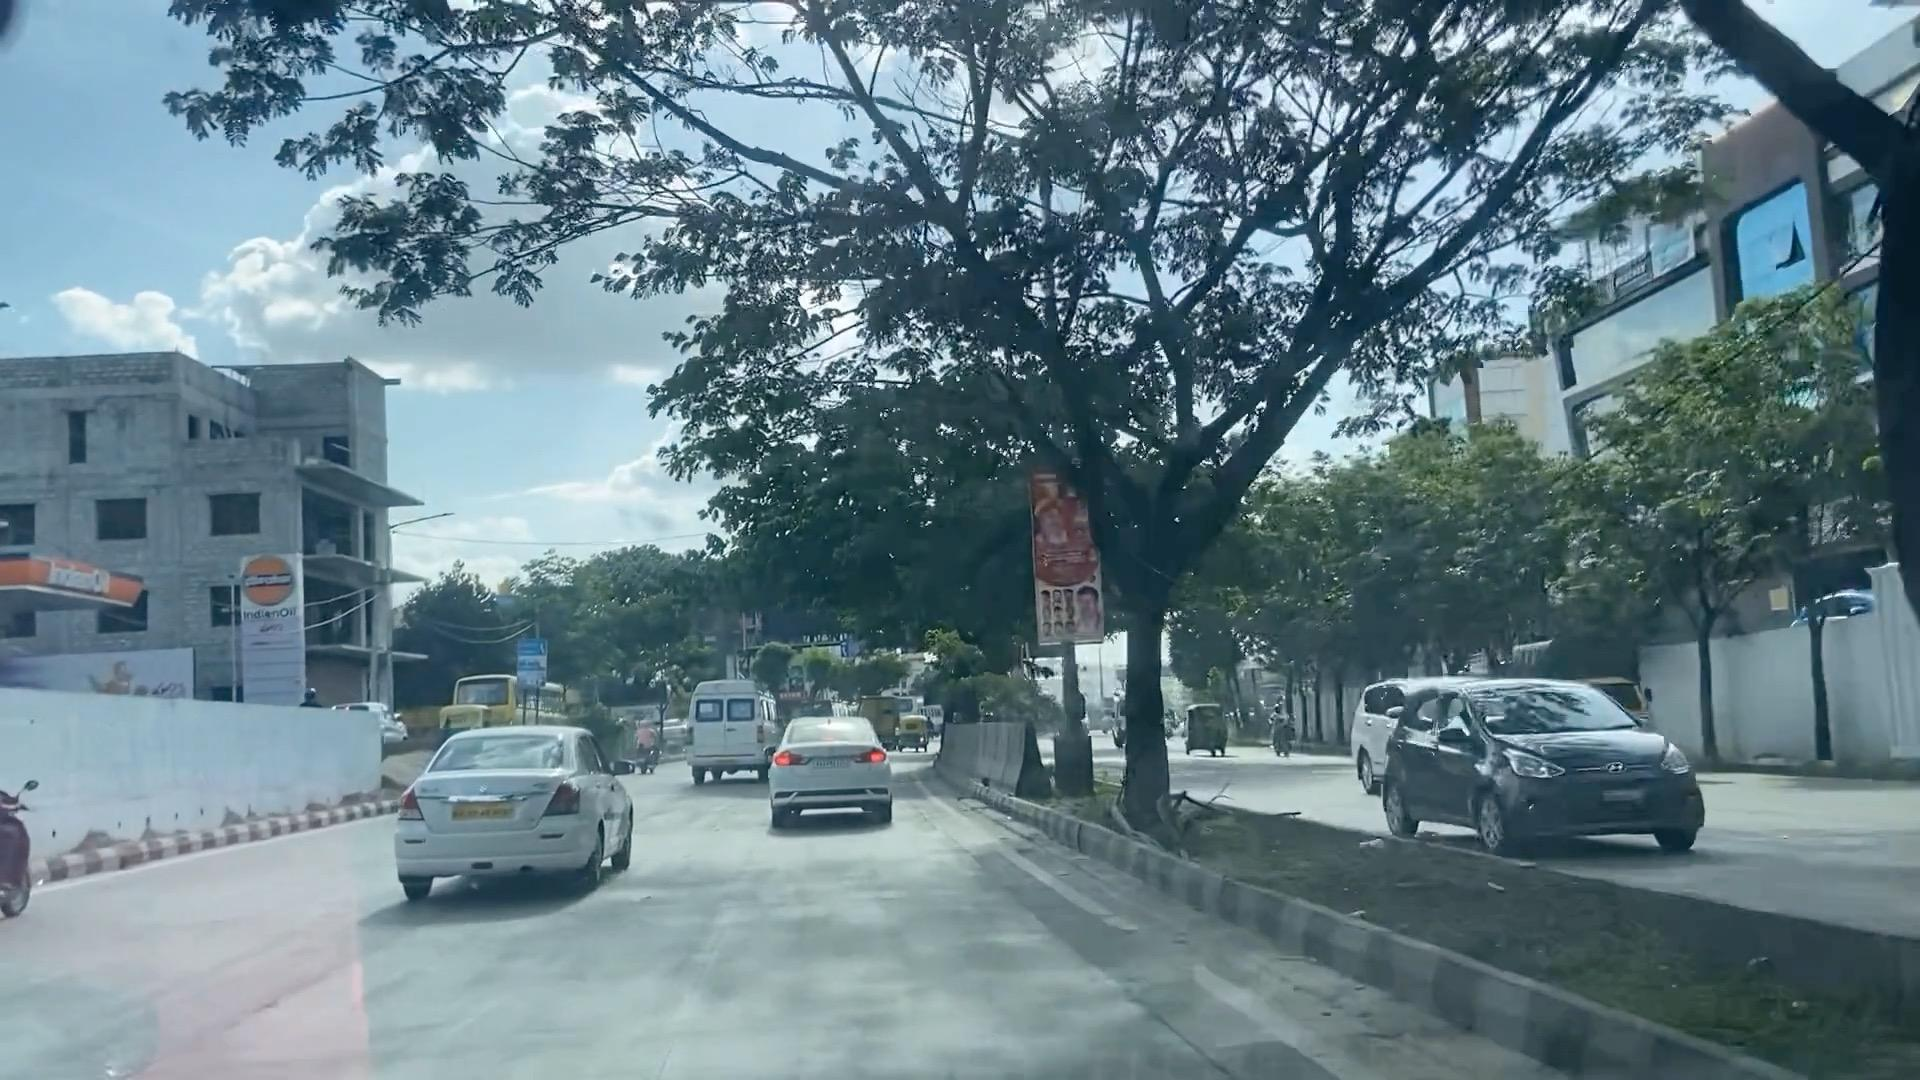HMV: (698, 684, 767, 778)
LMV: (400, 732, 595, 873), (775, 728, 885, 815)
